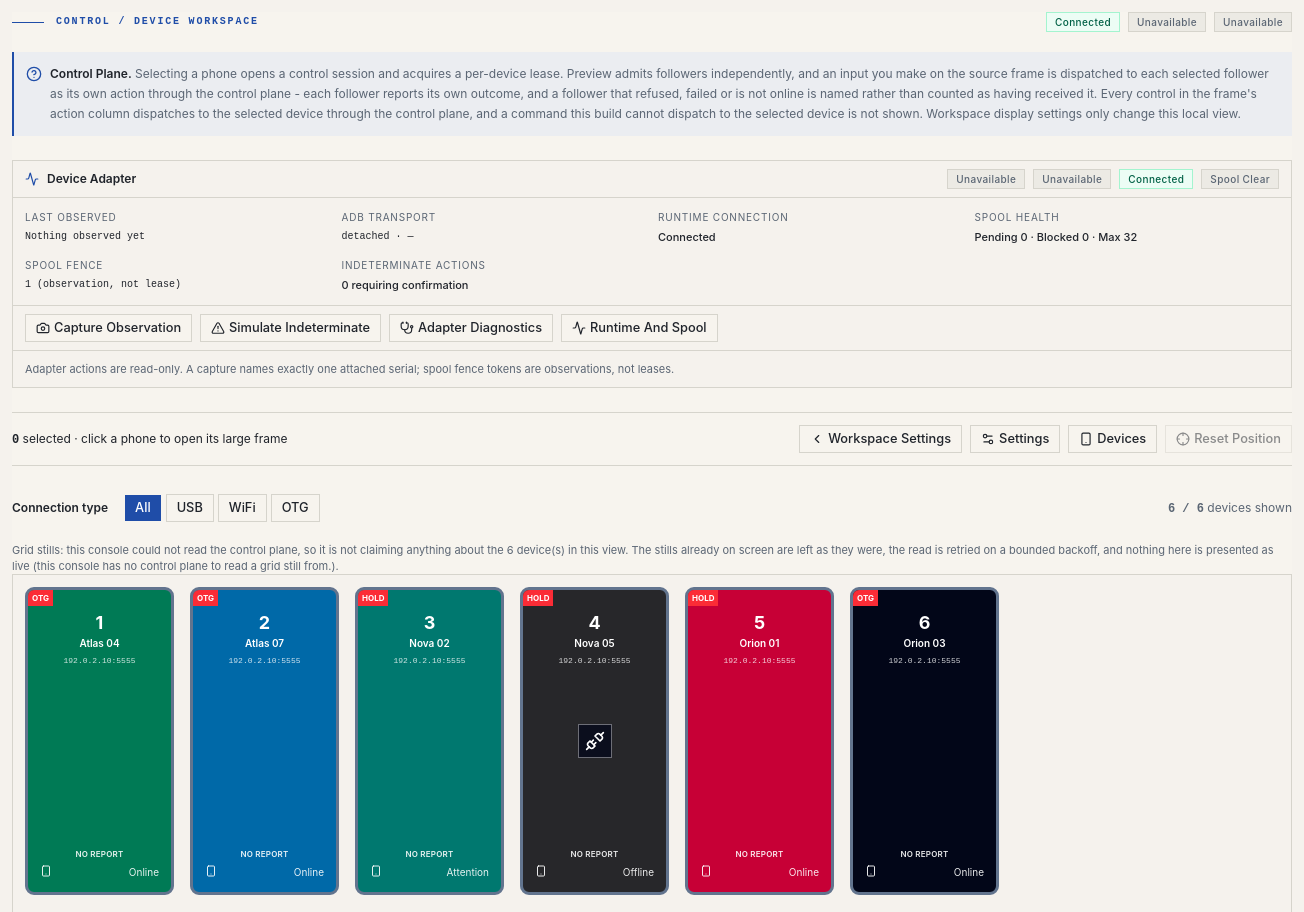
Test: ControlPage connection filters › shows all devices by default, filters by observed transport, and updates the count
The image size is (1304, 912).
expect the element named "Device connection filters" shows "6 / 6 devices shown": met, box [12, 494, 1292, 522]
Click the button "USB".
click(190, 508)  # box [166, 494, 214, 522]
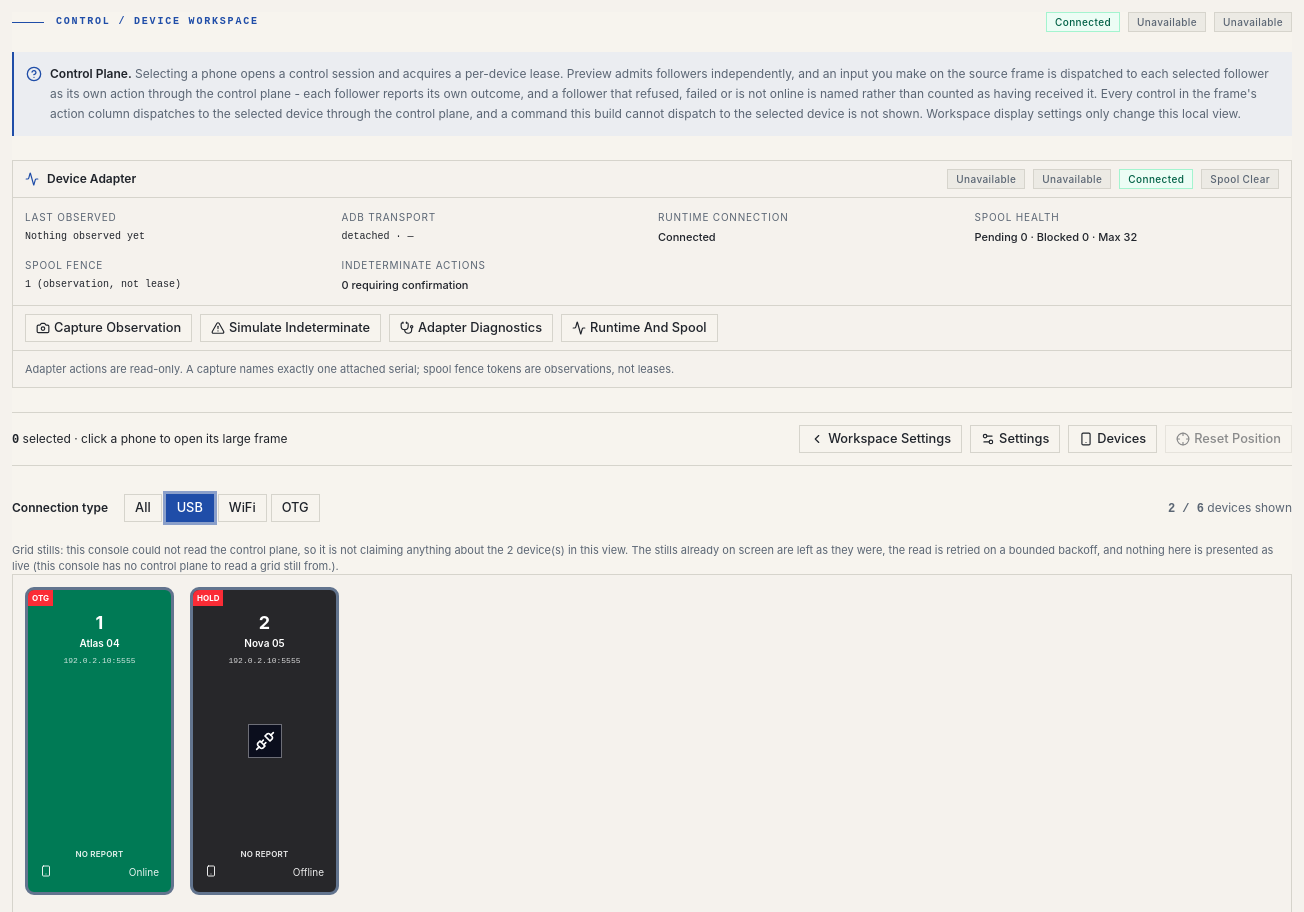
expect the button "No report OTG 1 Atlas 04 192.0.2.10:5555 Online" is shown: met, box [25, 587, 174, 895]
expect the element named "Device connection filters" shows "2 / 6 devices shown": met, box [12, 494, 1292, 522]
expect the button "Atlas 07" is gone: met
